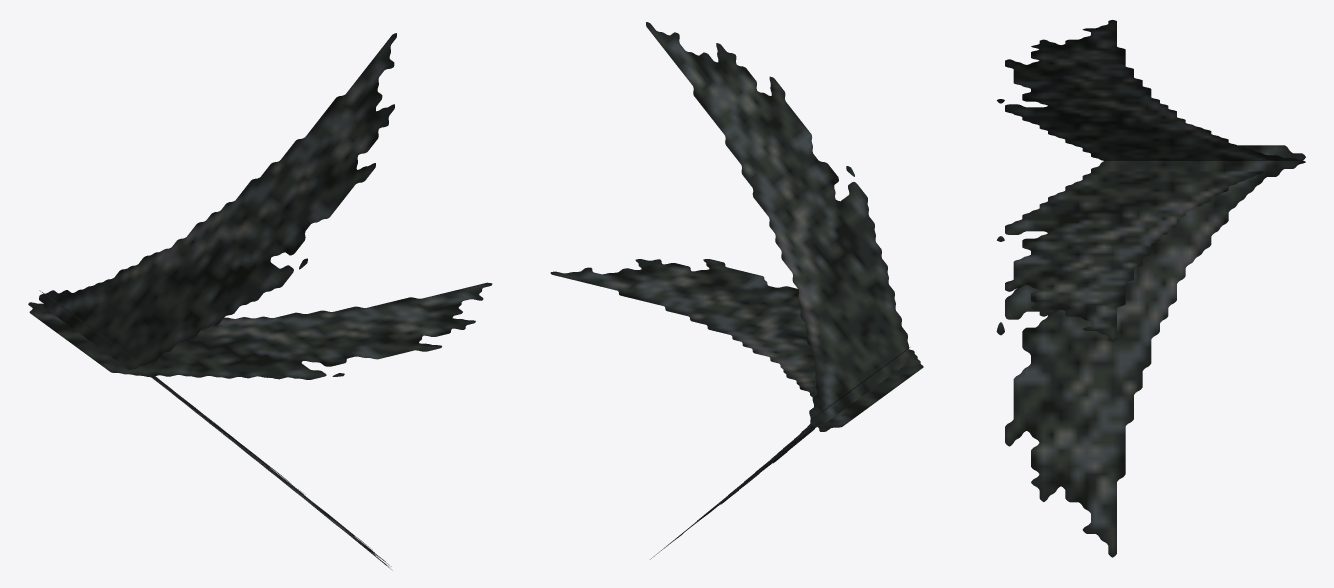
File: SM_EC_Tree_Part_Cross_03.fbx
3 renders of one model, left to right at view 1: azimuth 30°, elevation 25°; view 2: azimuth 150°, elevation 25°; view 3: azimuth 270°, elevation 25°, orthographic.
Visible parts, largest first — view 1: SM_EC_Tree_Part_Cross_03; view 2: SM_EC_Tree_Part_Cross_03; view 3: SM_EC_Tree_Part_Cross_03.
Boxes of the visible parts, bbox=[...] form: SM_EC_Tree_Part_Cross_03: bbox=[28, 33, 492, 570]; SM_EC_Tree_Part_Cross_03: bbox=[550, 22, 923, 559]; SM_EC_Tree_Part_Cross_03: bbox=[996, 20, 1305, 557].
Bounding box in the file's own units: 0.8451 × 0.6429 × 1.13.
